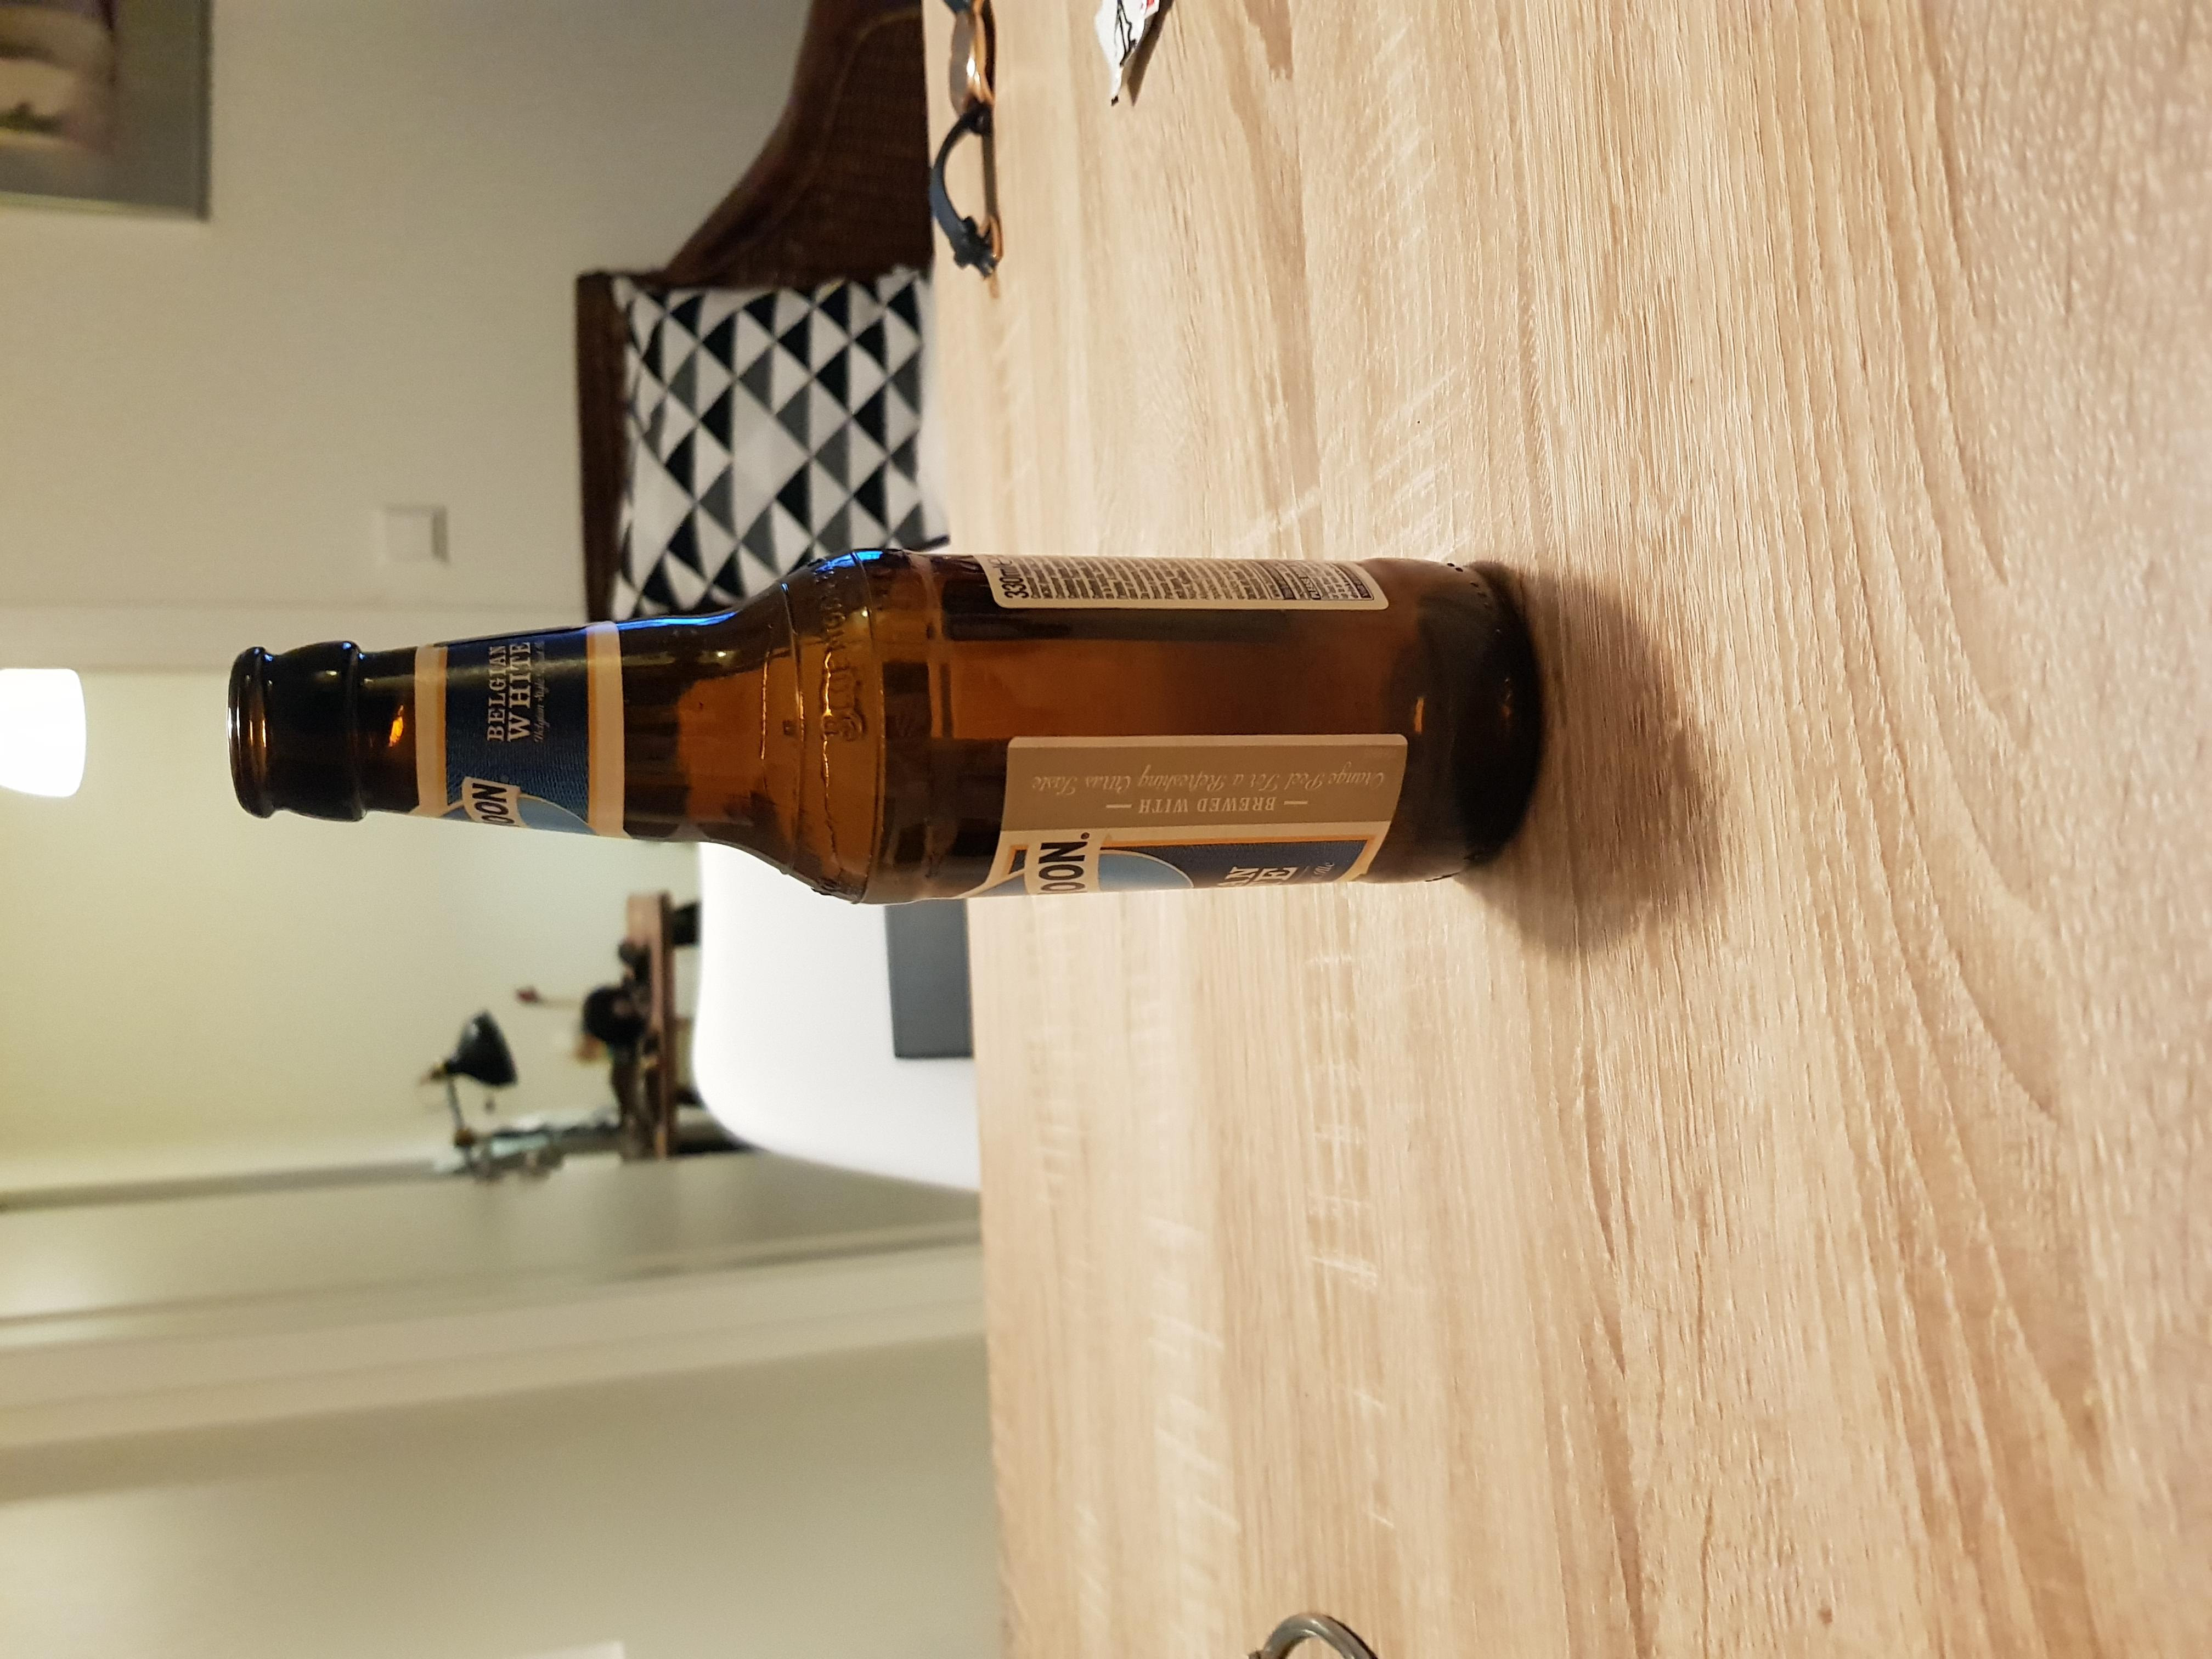bottle: (212, 525, 1573, 889)
